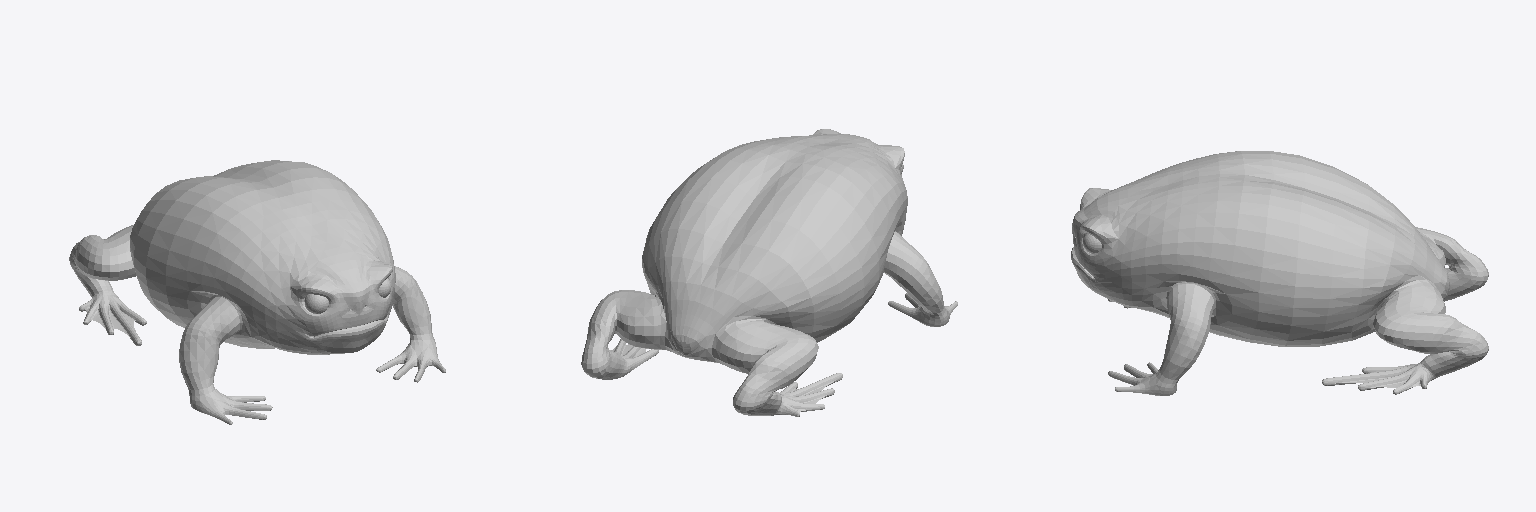
Rendered from frog.obj.
3 renders of one model, left to right at view 1: azimuth 30°, elevation 25°; view 2: azimuth 150°, elevation 25°; view 3: azimuth 270°, elevation 25°, orthographic.
Visible parts, largest first — view 1: RainFrog_Cube.001; view 2: RainFrog_Cube.001; view 3: RainFrog_Cube.001.
Part boxes in pixels (bbox=[...]): RainFrog_Cube.001: bbox=[69, 160, 445, 424]; RainFrog_Cube.001: bbox=[581, 129, 957, 416]; RainFrog_Cube.001: bbox=[1071, 151, 1488, 395].
Size of the model in its own units: 6.48 by 4.23 by 9.56.